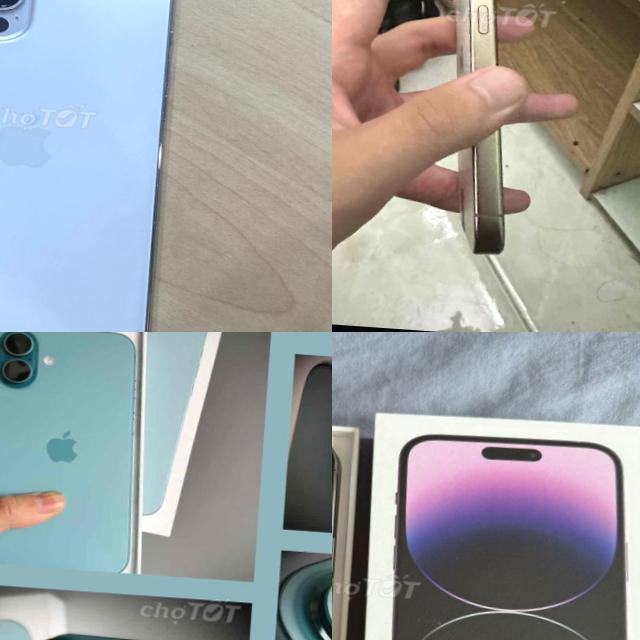gen_12_13: (0, 0, 222, 332)
gen_16: (411, 0, 559, 260), (0, 332, 150, 580)
